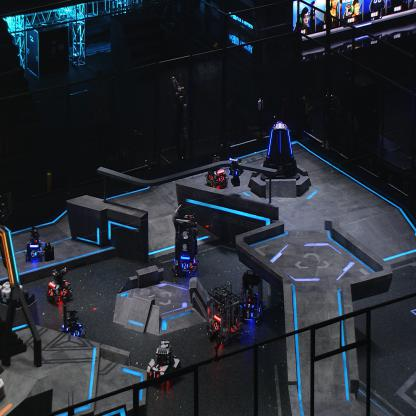car: (206, 283, 243, 345), (171, 211, 199, 277), (146, 338, 181, 390), (237, 268, 266, 326), (46, 266, 72, 306), (59, 307, 86, 342), (204, 153, 228, 190), (25, 225, 45, 261)
